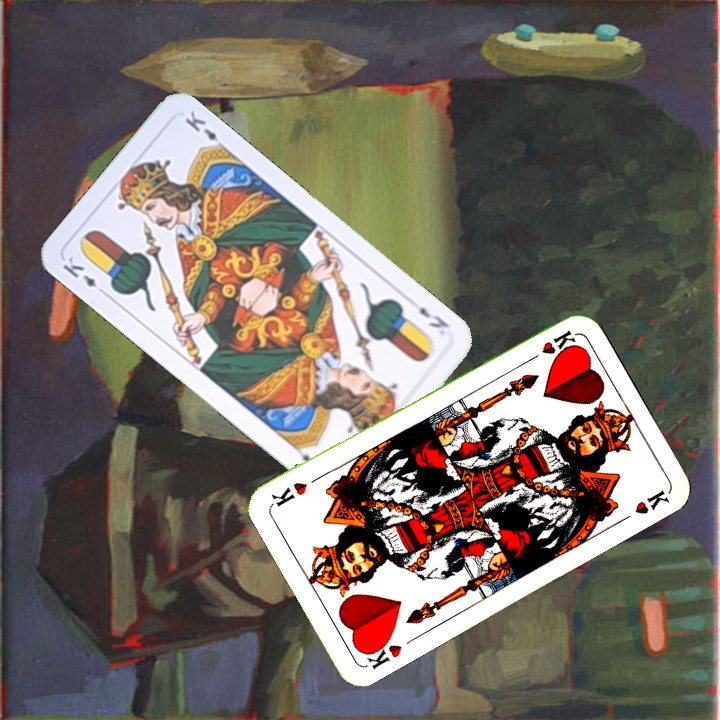EK: (59, 252, 110, 299), (414, 302, 452, 331)
HK: (523, 326, 579, 365), (358, 633, 405, 672)
